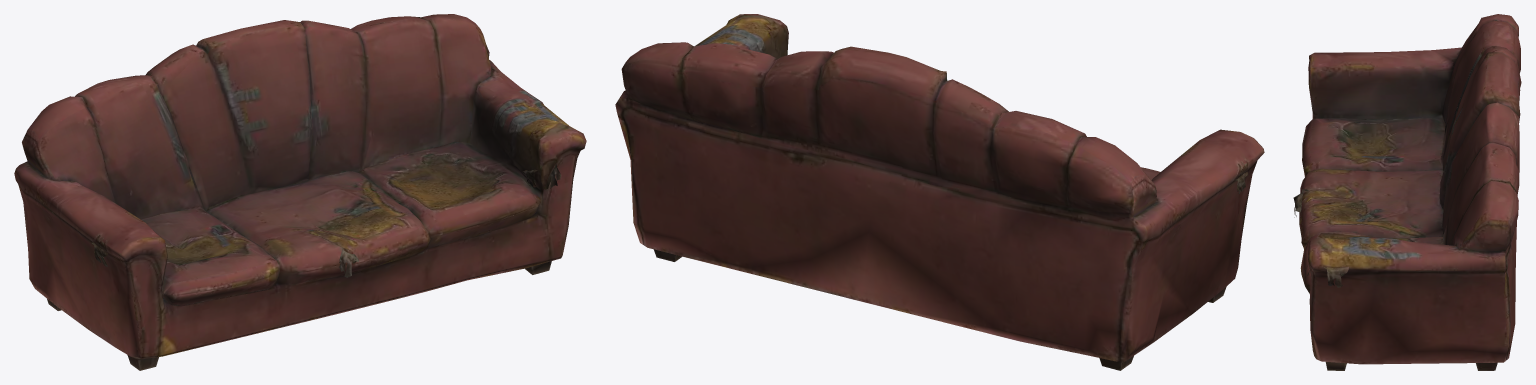
The model's file is bulky_apartment_sofa.glb.
3 views of the same model, side by side, from view 1: azimuth 30°, elevation 25°; view 2: azimuth 150°, elevation 25°; view 3: azimuth 270°, elevation 25° (orthographic). The views are drawn at different scales.
Parts seen in each view (by area): view 1: bulky_apartment_sofa; view 2: bulky_apartment_sofa; view 3: bulky_apartment_sofa.
Boxes of the visible parts, x1,y1,x2,y2 form: bulky_apartment_sofa: (14, 14, 586, 370); bulky_apartment_sofa: (615, 14, 1264, 370); bulky_apartment_sofa: (1293, 14, 1521, 370).
Size of the model in its own units: 3.15 by 1.45 by 1.43.
Materials: 1 (1 with a texture image).
